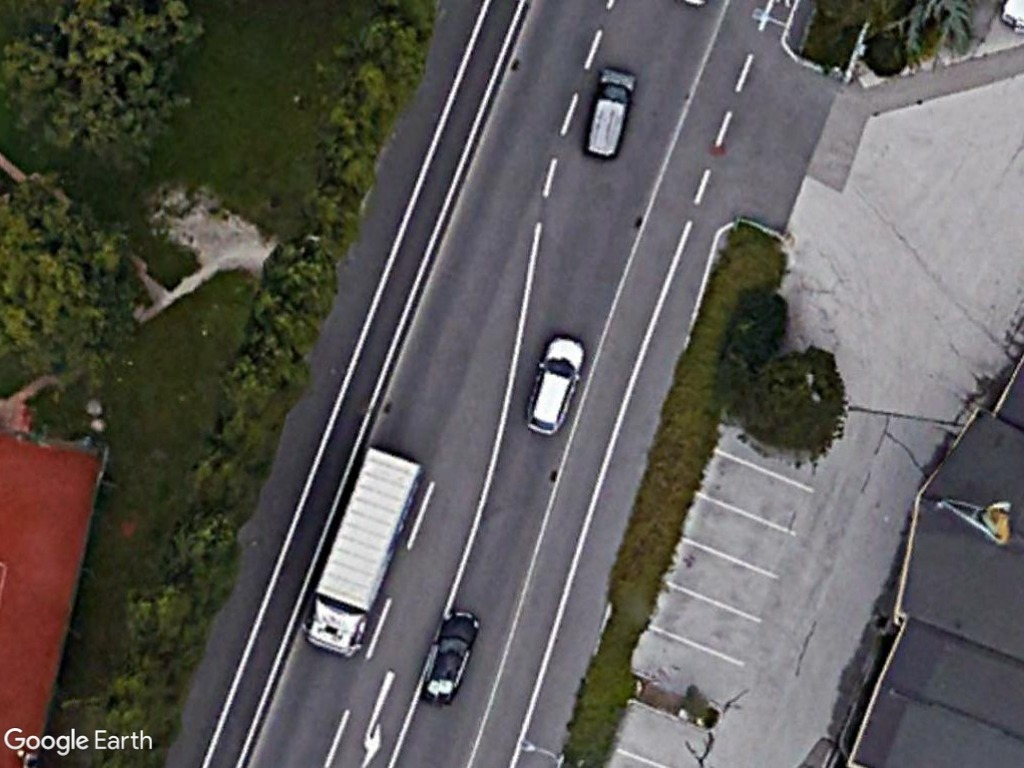car: (519, 328, 592, 439), (418, 604, 480, 710), (577, 61, 641, 163)
truck: (301, 438, 425, 660)
